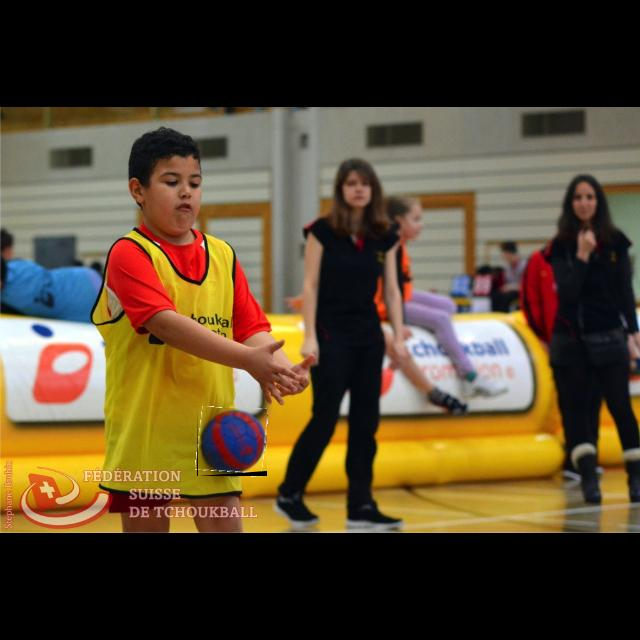Football: (197, 408, 267, 476)
